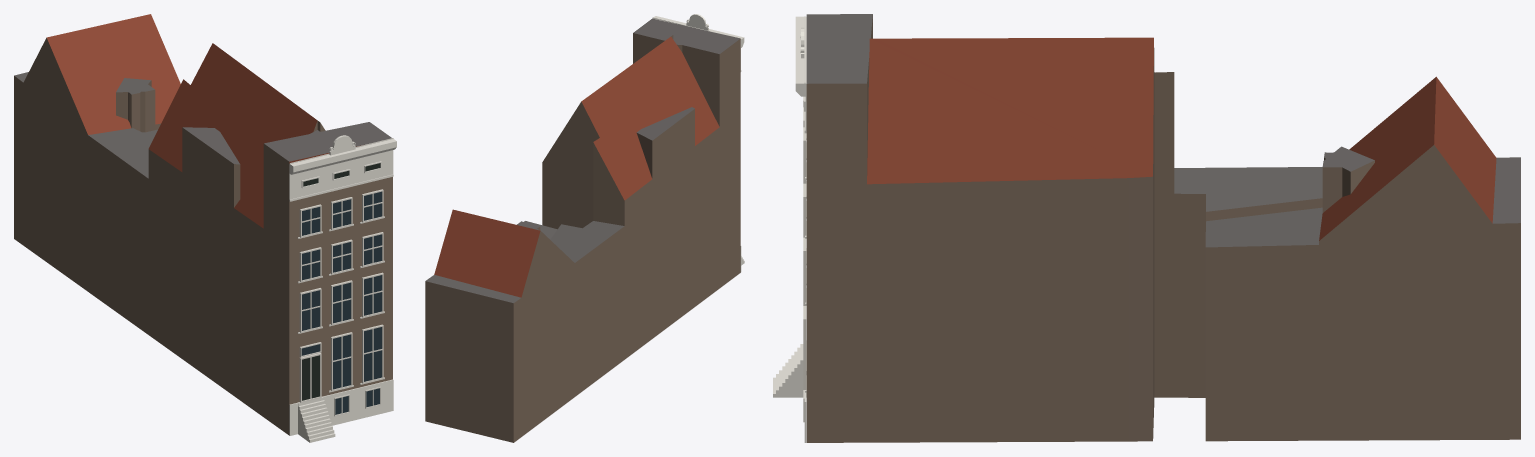
3 views of the same model, side by side, from view 1: azimuth 30°, elevation 25°; view 2: azimuth 150°, elevation 25°; view 3: azimuth 270°, elevation 25° (orthographic). The views are drawn at different scales.
Parts seen in each view (by area): view 1: spec-0363100012175700; view 2: spec-0363100012175700; view 3: spec-0363100012175700.
Part boxes in pixels (x1=…): spec-0363100012175700: x1=14, y1=14, x2=396, y2=442; spec-0363100012175700: x1=425, y1=14, x2=744, y2=442; spec-0363100012175700: x1=773, y1=14, x2=1520, y2=442.
Size of the model in its own units: 6.91 by 17.55 by 31.25.
